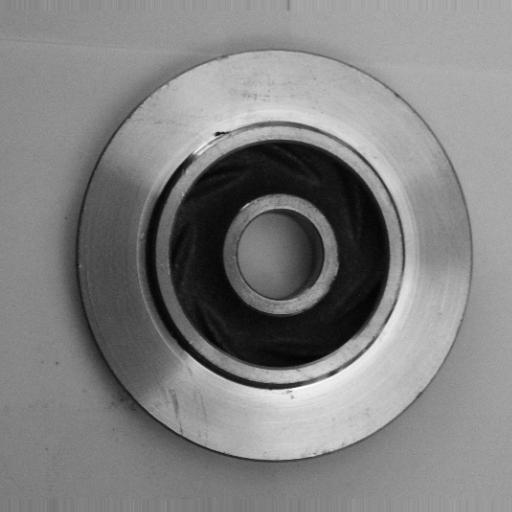crack: (202, 122, 241, 147)
unpolished_casting: (73, 48, 476, 464)
